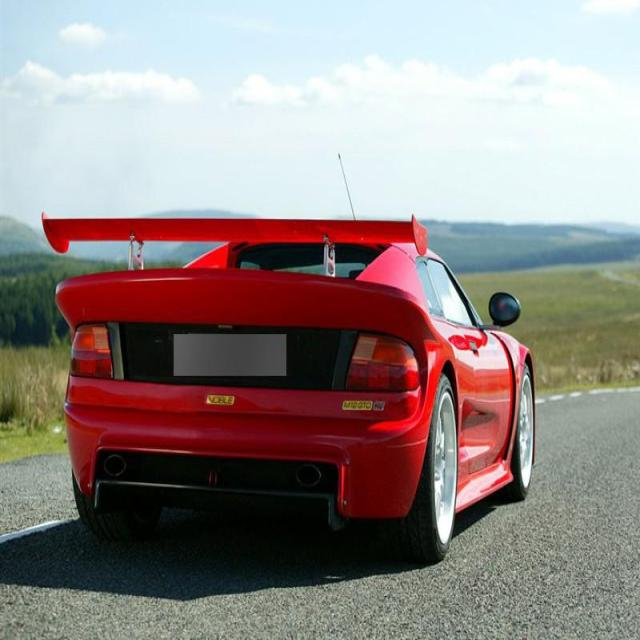back_glass: (178, 227, 400, 287)
back_left_side_light: (56, 308, 122, 399)
back_right_side_light: (338, 323, 422, 419)
front_right_side_door: (422, 226, 517, 517)
front_right_side_mirror: (482, 284, 528, 338)
rear_bumper: (59, 368, 435, 523)
wheel: (406, 358, 470, 570), (510, 346, 540, 507)
